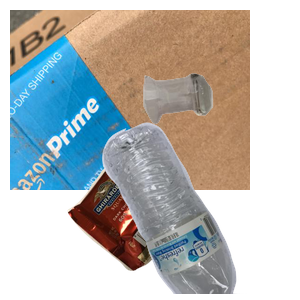cardboard: (10, 10, 250, 190)
glass: (141, 71, 300, 187)
plastic: (100, 120, 300, 300)
trash: (65, 145, 242, 300)
